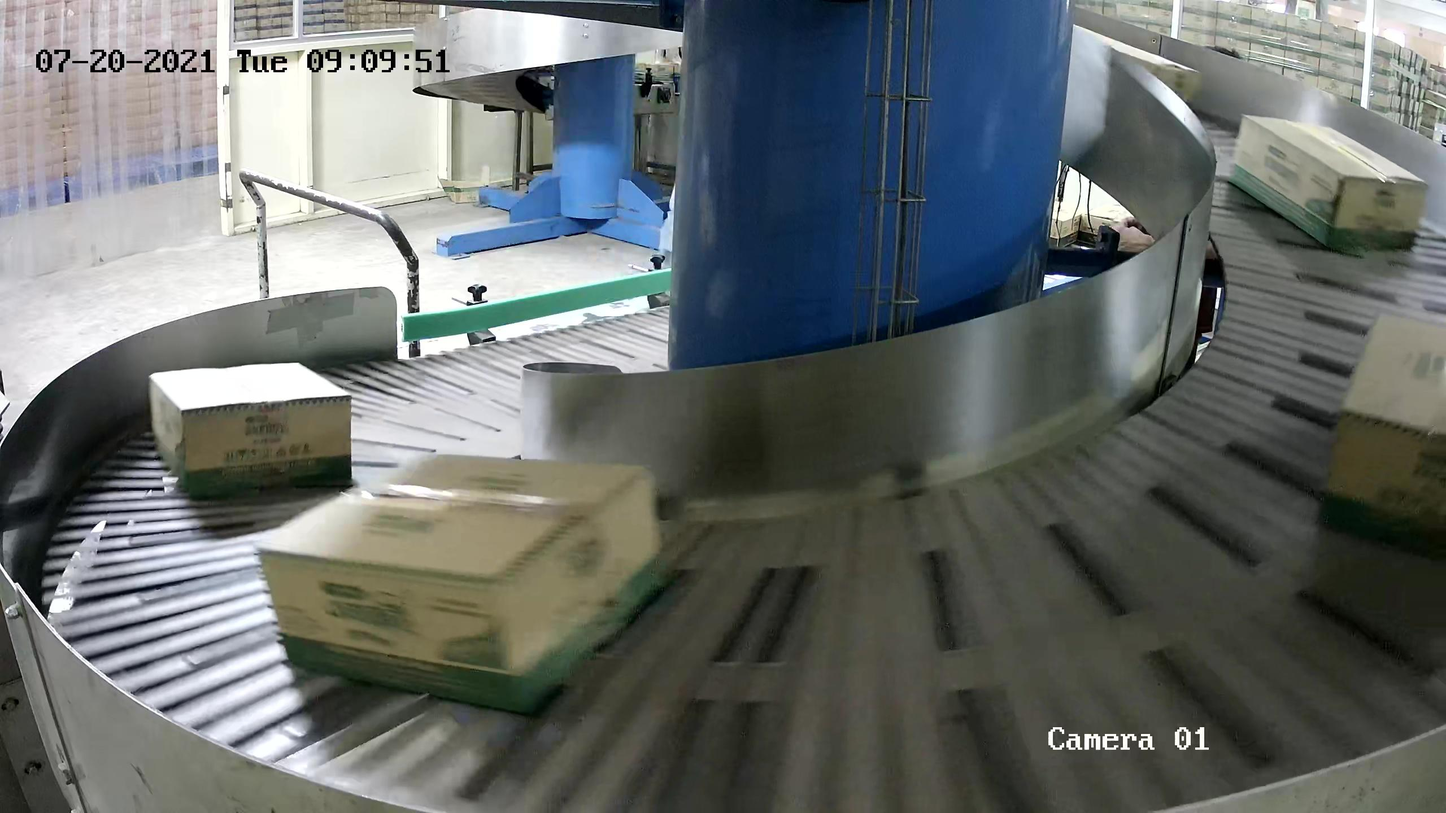Box: (256, 447, 670, 718), (1315, 312, 1446, 544), (1227, 112, 1429, 253), (147, 360, 354, 496)
